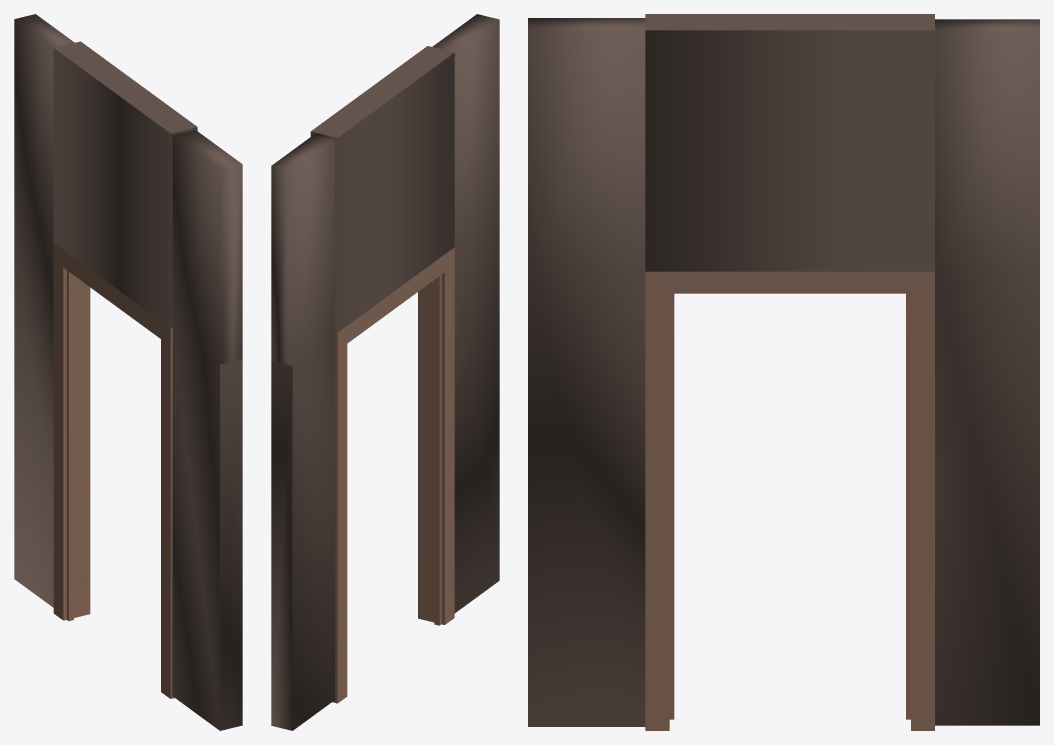
The model's file is Door_Handle.fbx.
The picture shows the model from 3 angles, left to right: view 1: azimuth 30°, elevation 25°; view 2: azimuth 150°, elevation 25°; view 3: azimuth 270°, elevation 25°; orthographic projection. The views are drawn at different scales.
Visible parts, largest first — view 1: Door_Handle; view 2: Door_Handle; view 3: Door_Handle.
Boxes of the visible parts, bbox=[...] form: Door_Handle: bbox=[14, 14, 242, 730]; Door_Handle: bbox=[271, 14, 499, 730]; Door_Handle: bbox=[528, 14, 1039, 730].
Bounding box in the file's own units: 16 × 320 × 212.
